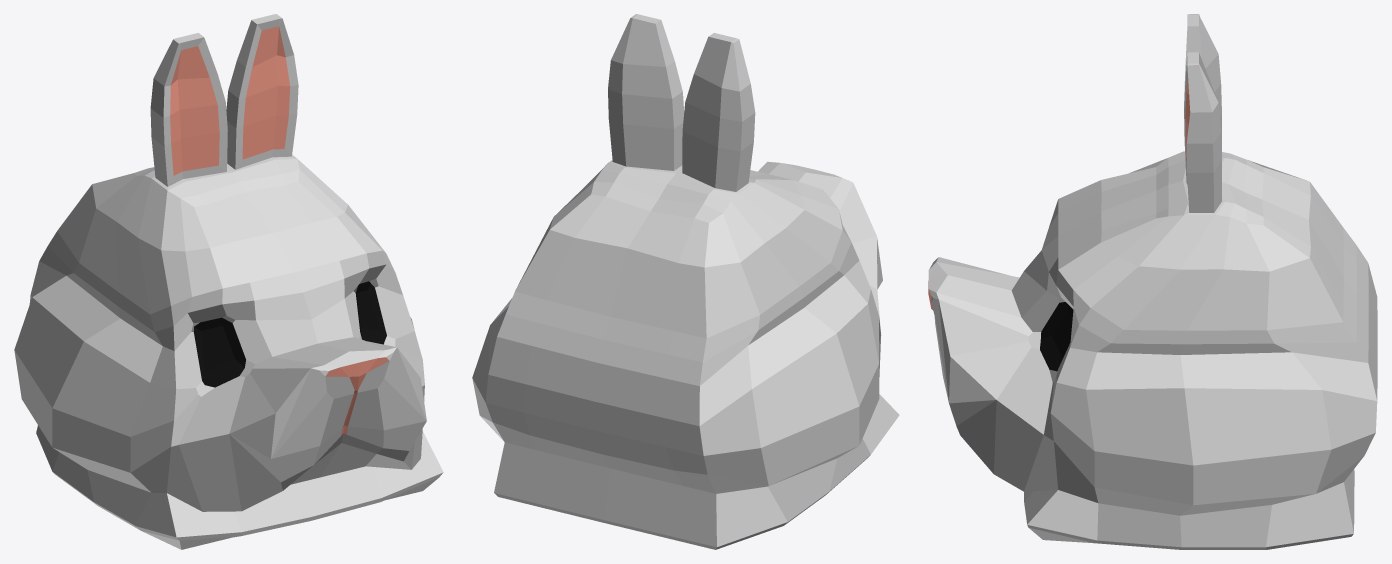
File: rabbit.fbx
3 renders of one model, left to right at view 1: azimuth 30°, elevation 25°; view 2: azimuth 150°, elevation 25°; view 3: azimuth 270°, elevation 25°, orthographic.
Parts seen in each view (by area): view 1: Cube.005; view 2: Cube.005; view 3: Cube.005.
Boxes of the visible parts, x1,y1,x2,y2 form: Cube.005: (14,14,443,549); Cube.005: (472,14,899,549); Cube.005: (928,14,1377,549).
Bounding box in the file's own units: 27.73 × 33.22 × 30.49.
